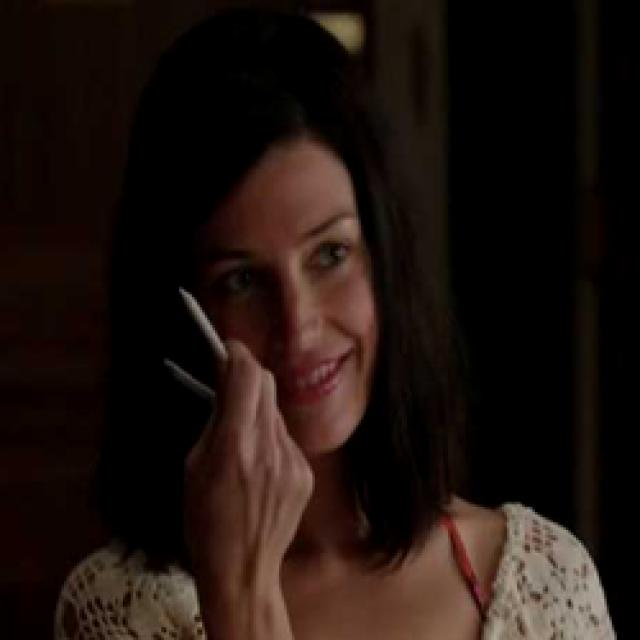Smooking: (164, 269, 232, 362)
